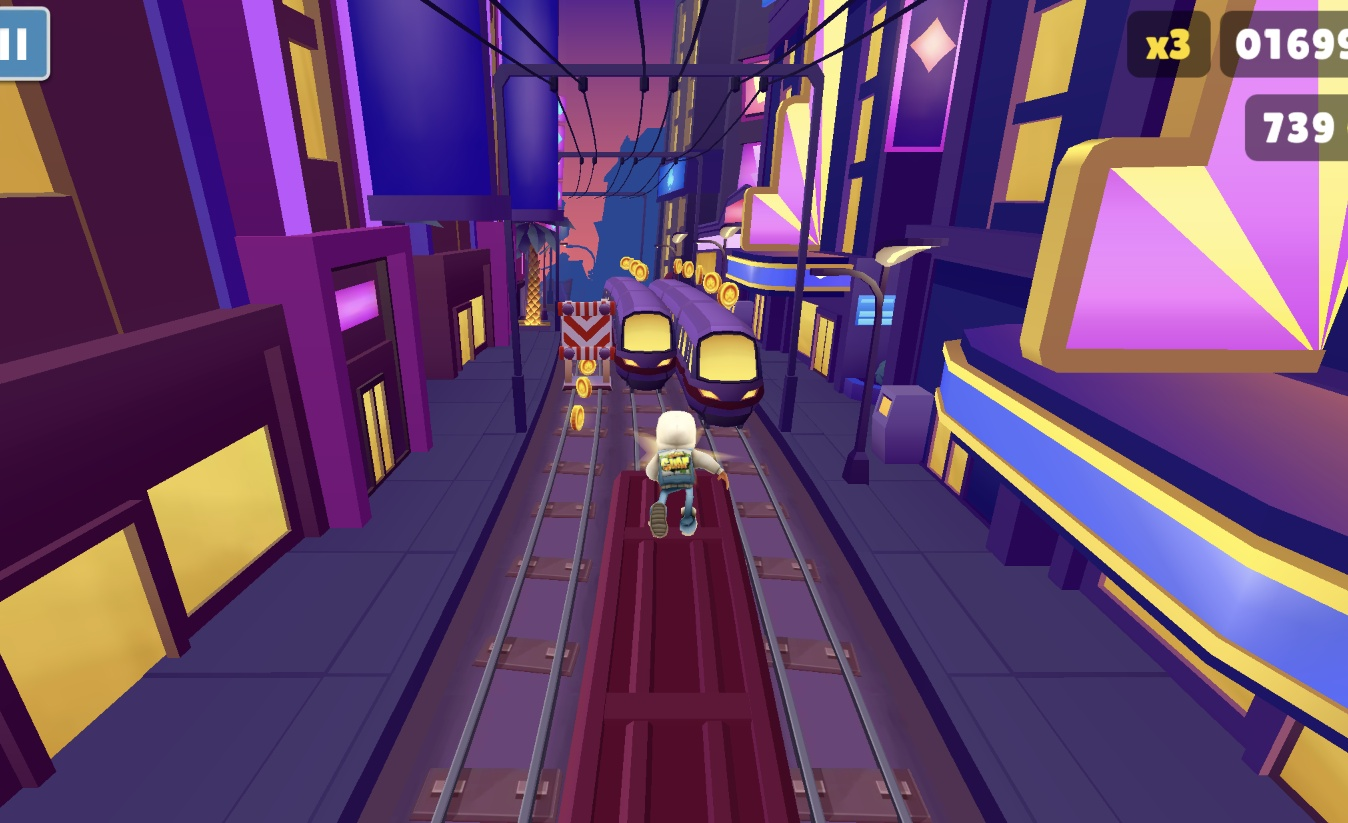overhead_barrier: (555, 297, 616, 390)
train: (500, 469, 801, 823), (652, 278, 771, 428), (609, 277, 679, 392)
